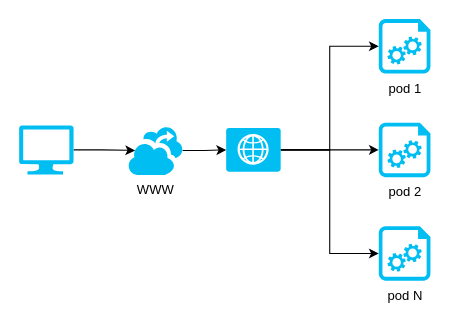
Some shapes in this 449 by 322 pixel diagram are drawn without their labels. The shapes that lost their labels are listed below. From the top down, each one's box as (x1, y1, x2, y2) in pixels, then its label:
(19, 125, 73, 174): user
(226, 128, 280, 171): nginx
